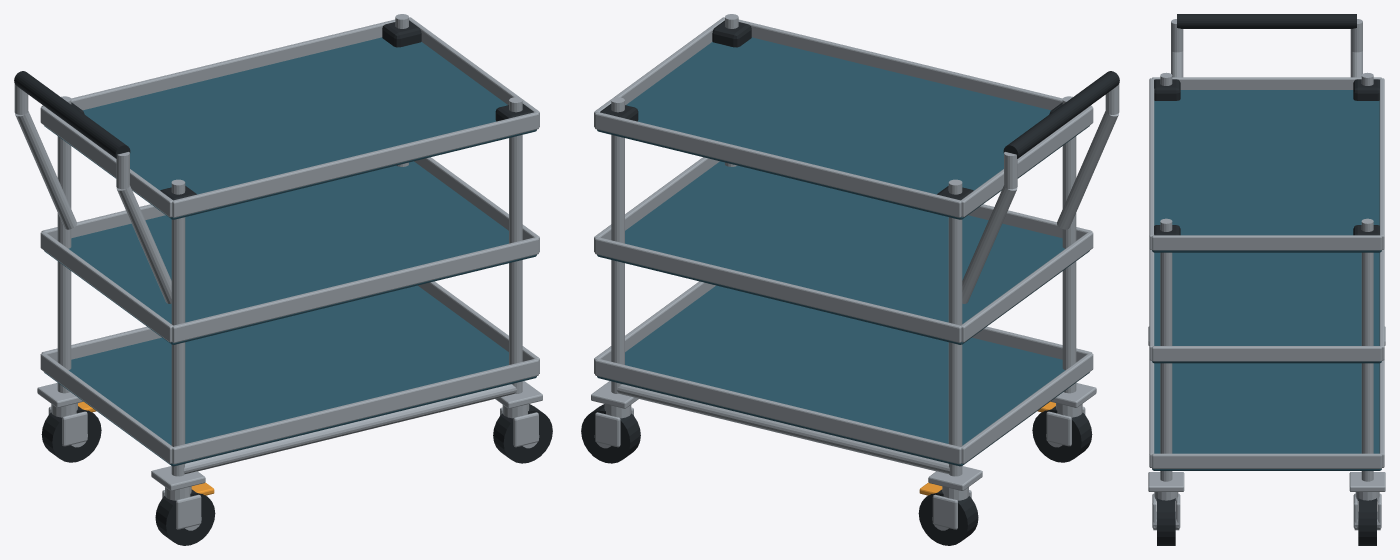
The model's file is SM_EquipmentUtilityCart.fbx.
3 views of the same model, side by side, from view 1: azimuth 30°, elevation 25°; view 2: azimuth 150°, elevation 25°; view 3: azimuth 270°, elevation 25° (orthographic). The views are drawn at different scales.
Visible parts, largest first — view 1: SM_EquipmentUtilityCart; view 2: SM_EquipmentUtilityCart; view 3: SM_EquipmentUtilityCart.
Part boxes in pixels (x1,y1,x2,y2): SM_EquipmentUtilityCart: (14, 14, 552, 545); SM_EquipmentUtilityCart: (581, 14, 1119, 545); SM_EquipmentUtilityCart: (1148, 14, 1385, 545).
Size of the model in its own units: 121 by 66 by 110.
